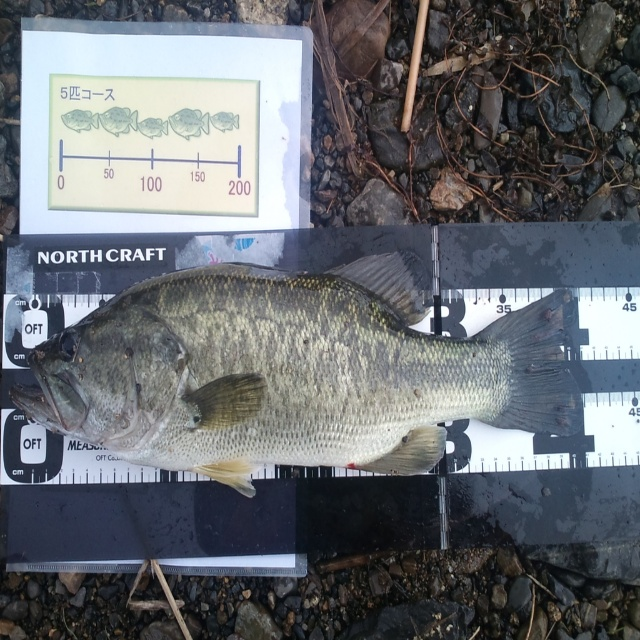Fish: (0, 251, 593, 502)
